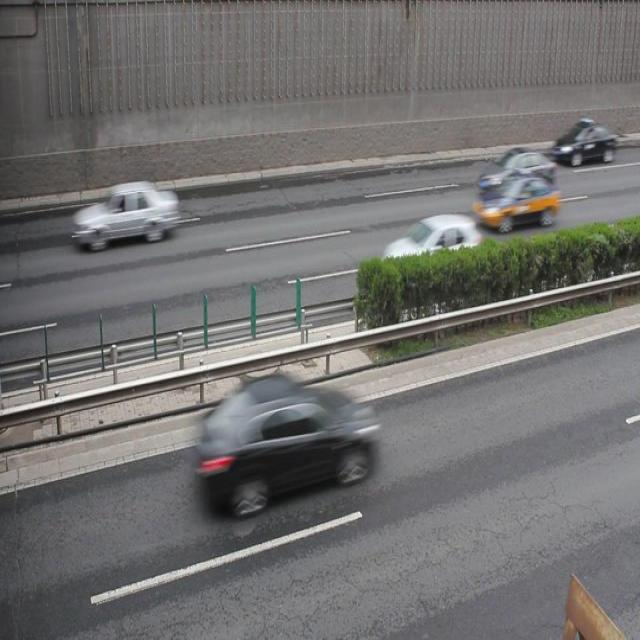car: (191, 371, 374, 516), (71, 177, 179, 250), (380, 211, 480, 284), (468, 171, 558, 232), (477, 146, 555, 198), (550, 118, 616, 168)
